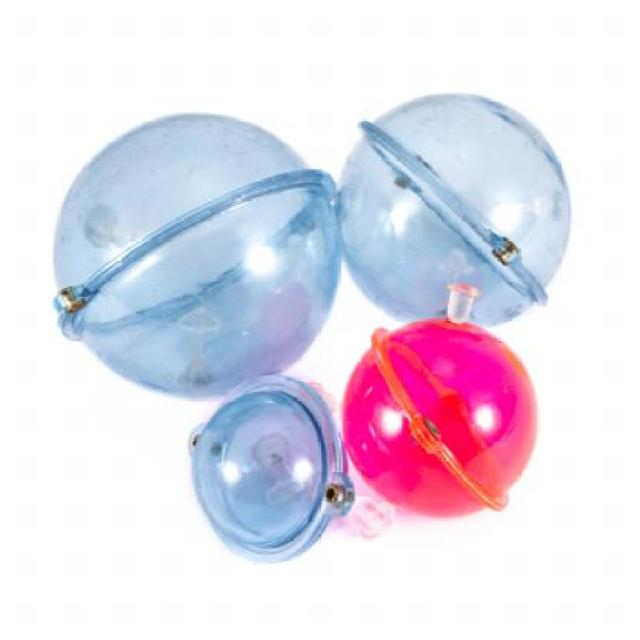a: (47, 146, 580, 497), (40, 103, 357, 283), (308, 100, 574, 251), (346, 311, 578, 457), (172, 391, 387, 497)
